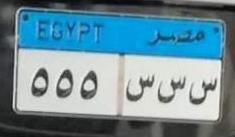5: (77, 71, 101, 103), (28, 67, 52, 97), (54, 68, 74, 98)
seen: (188, 73, 219, 105), (156, 72, 187, 104), (124, 73, 154, 100)
